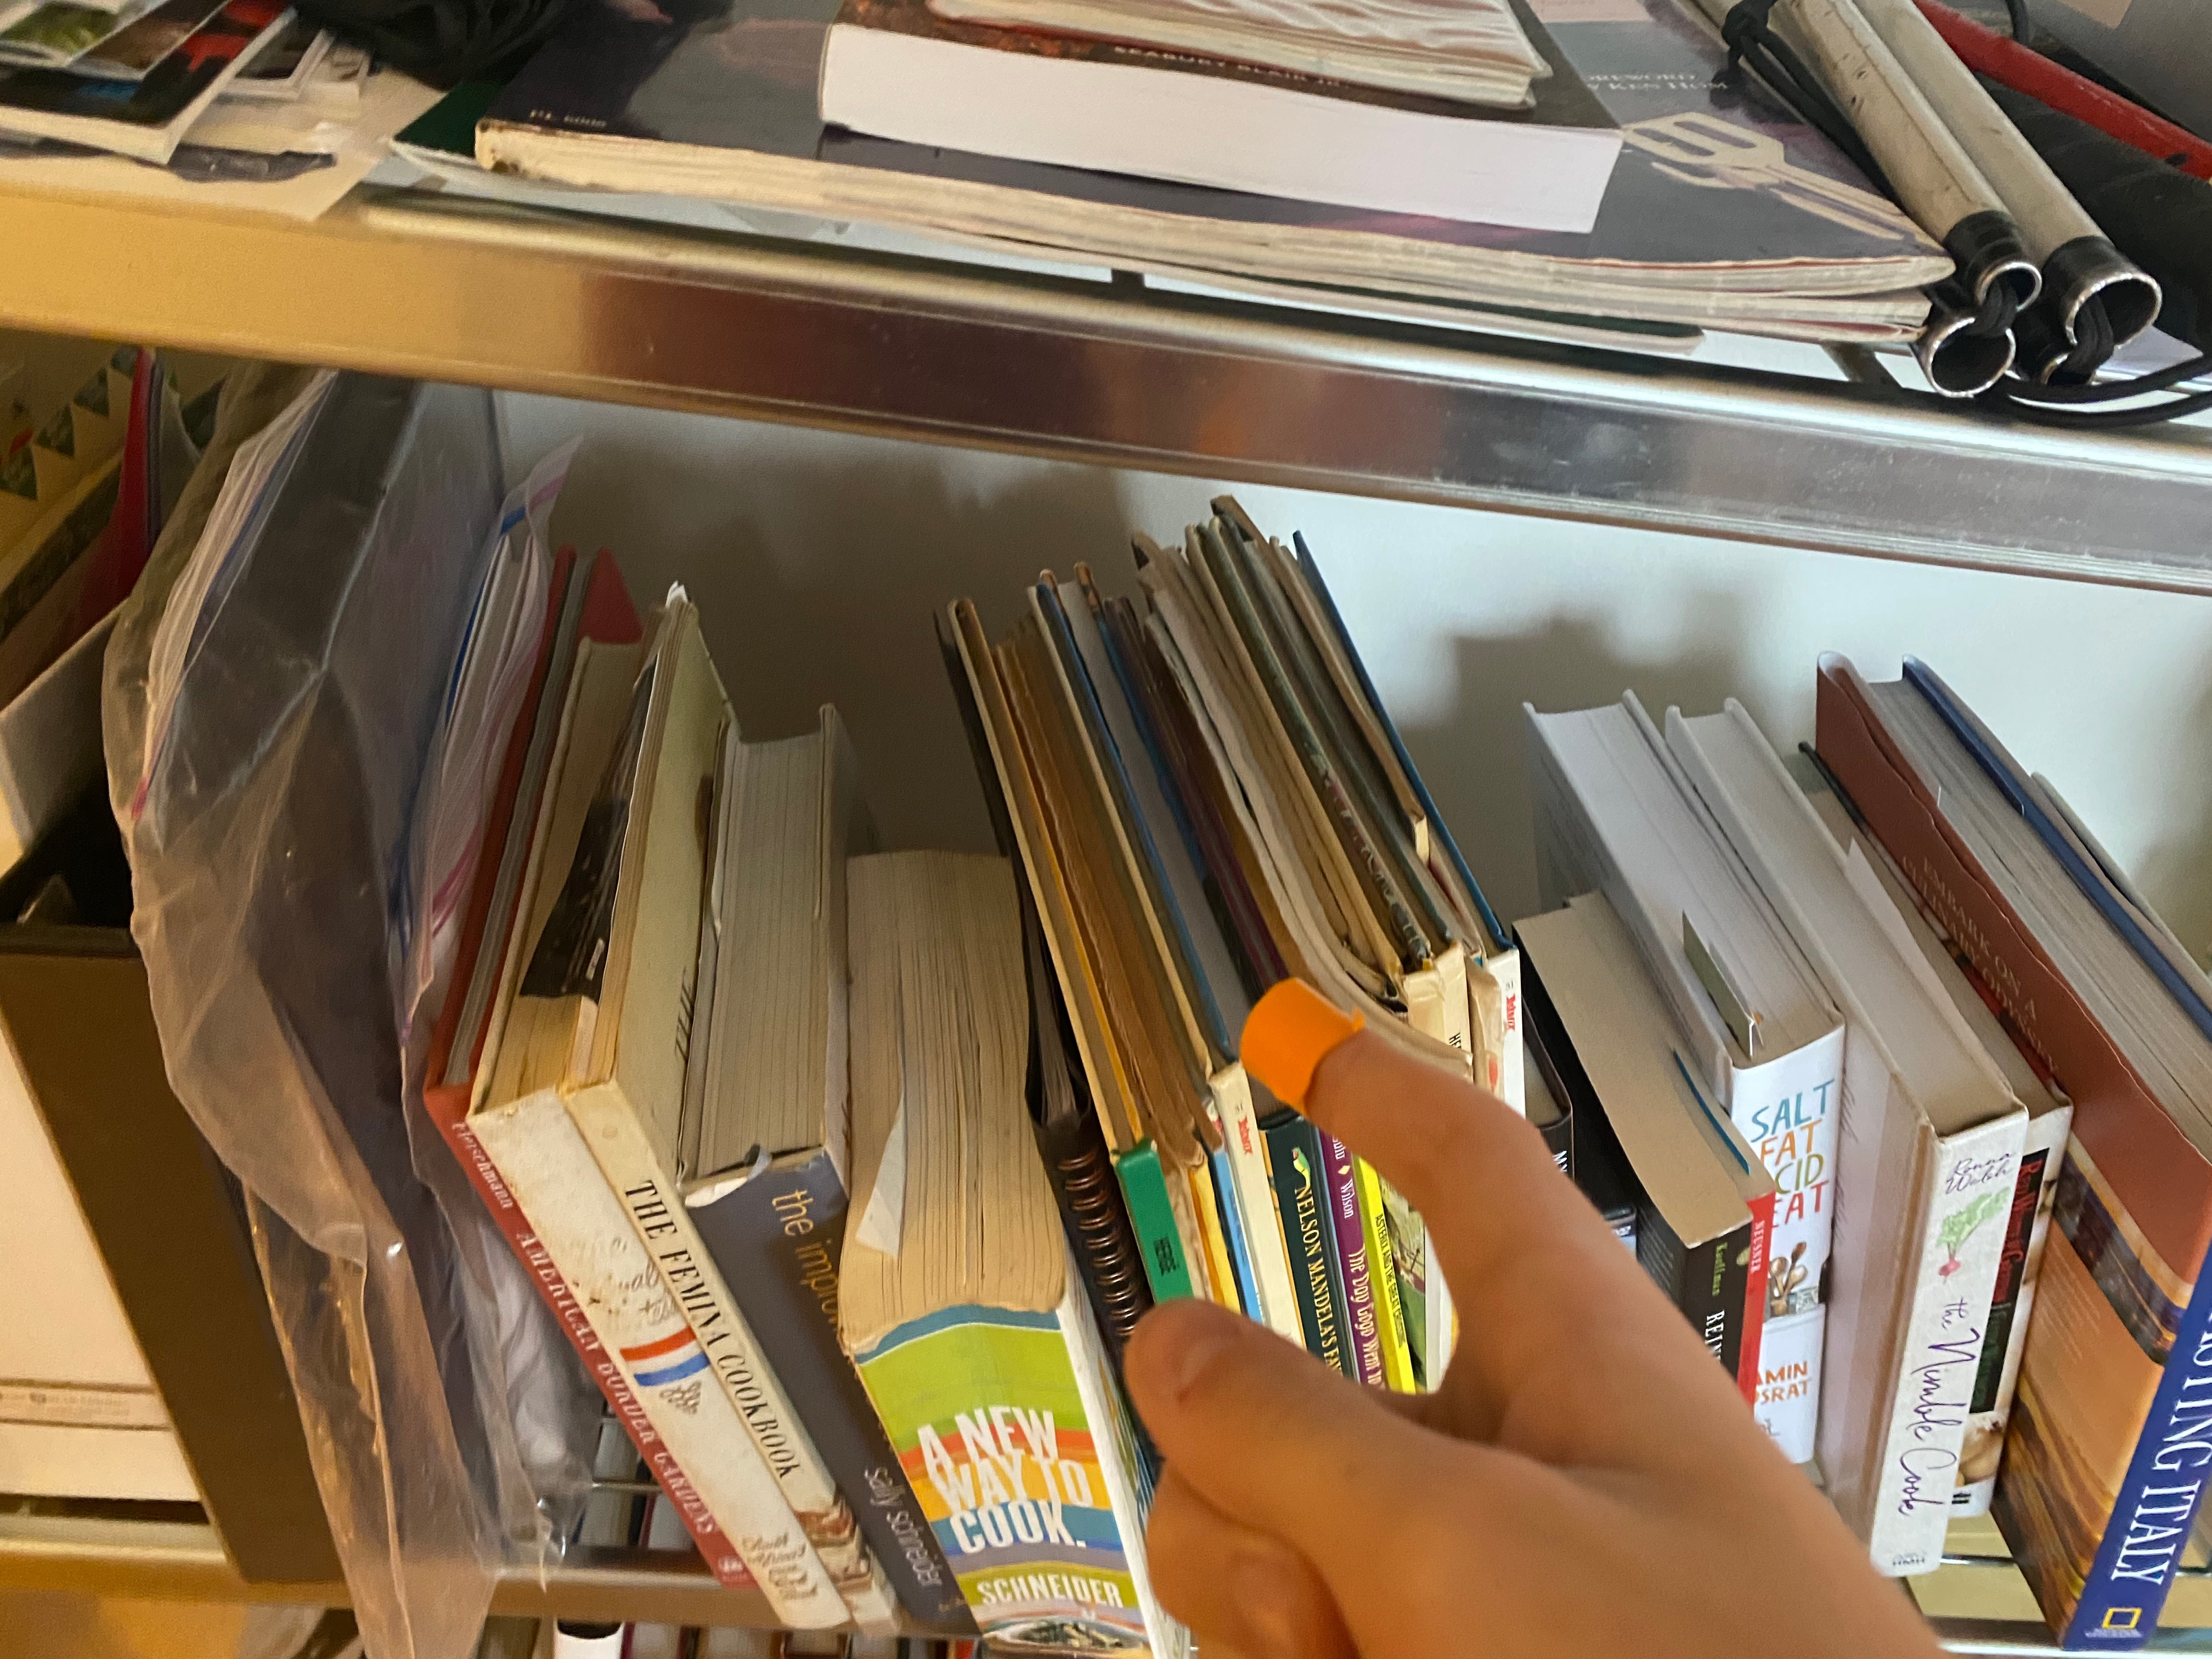fingertip: (1221, 964, 1444, 1162)
